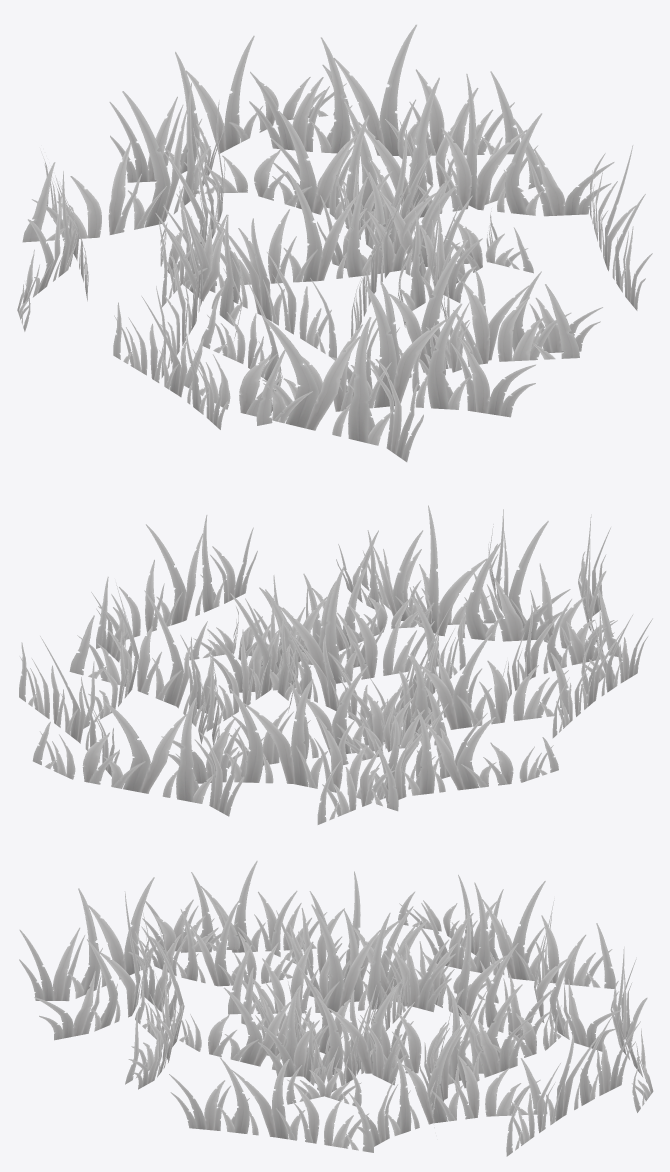
File: SM_Grass_Campsite_03.fbx
3 renders of one model, top to bottom at view 1: azimuth 30°, elevation 25°; view 2: azimuth 150°, elevation 25°; view 3: azimuth 270°, elevation 25°, orthographic. The views are drawn at different scales.
Visible parts, largest first — view 1: SM_Grass_Campsite_03_LOD0; view 2: SM_Grass_Campsite_03_LOD0; view 3: SM_Grass_Campsite_03_LOD0.
Part boxes in pixels (<box>): SM_Grass_Campsite_03_LOD0: <box>17,24,652,462</box>; SM_Grass_Campsite_03_LOD0: <box>19,505,652,824</box>; SM_Grass_Campsite_03_LOD0: <box>19,860,653,1156</box>.
Size of what is drawn, in the model's own units: 1.64 by 0.4177 by 1.91.
